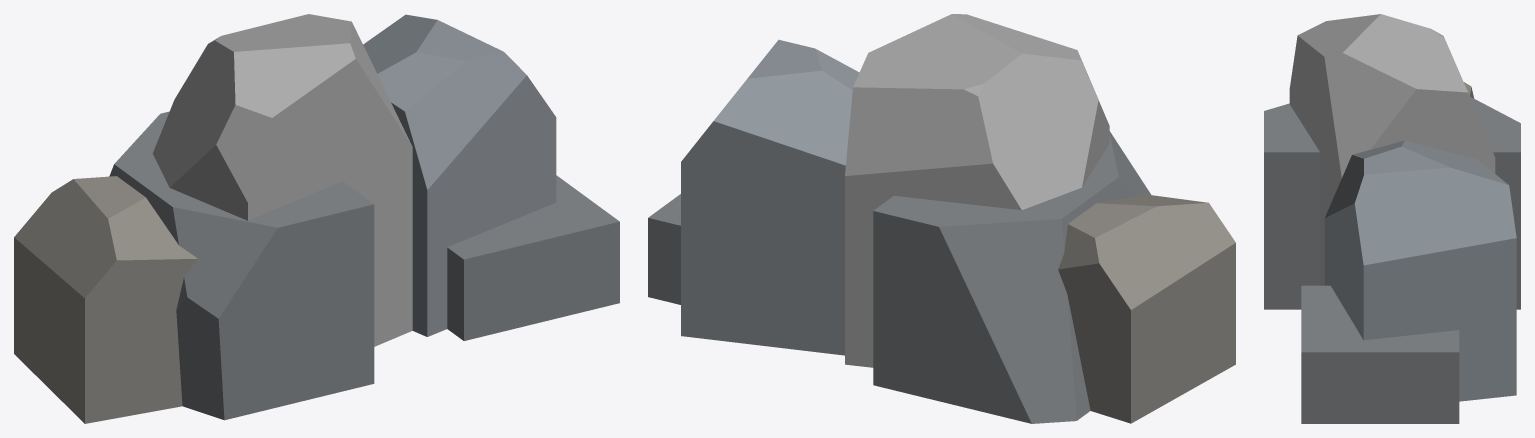
The model's file is Rock_Wall_04.fbx.
The picture shows the model from 3 angles, left to right: view 1: azimuth 30°, elevation 25°; view 2: azimuth 150°, elevation 25°; view 3: azimuth 270°, elevation 25°; orthographic projection. The views are drawn at different scales.
Visible parts, largest first — view 1: Rock_Wall_04; view 2: Rock_Wall_04; view 3: Rock_Wall_04.
Part boxes in pixels (x1,y1,x2,y2): Rock_Wall_04: (14,14,619,423); Rock_Wall_04: (648,14,1235,423); Rock_Wall_04: (1264,14,1520,423).
Size of the model in its own units: 673 by 371 by 325.
